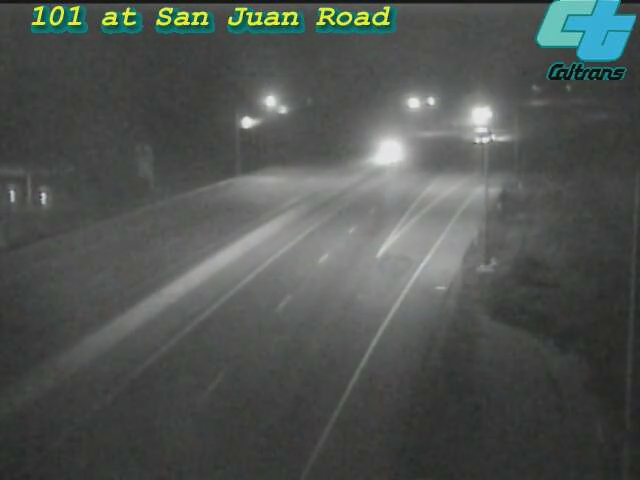vehicle: (363, 126, 413, 176), (455, 91, 505, 141), (456, 113, 506, 163)
